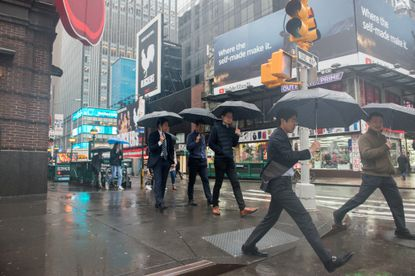person: (208, 109, 247, 218), (147, 118, 176, 211), (185, 119, 210, 207)
